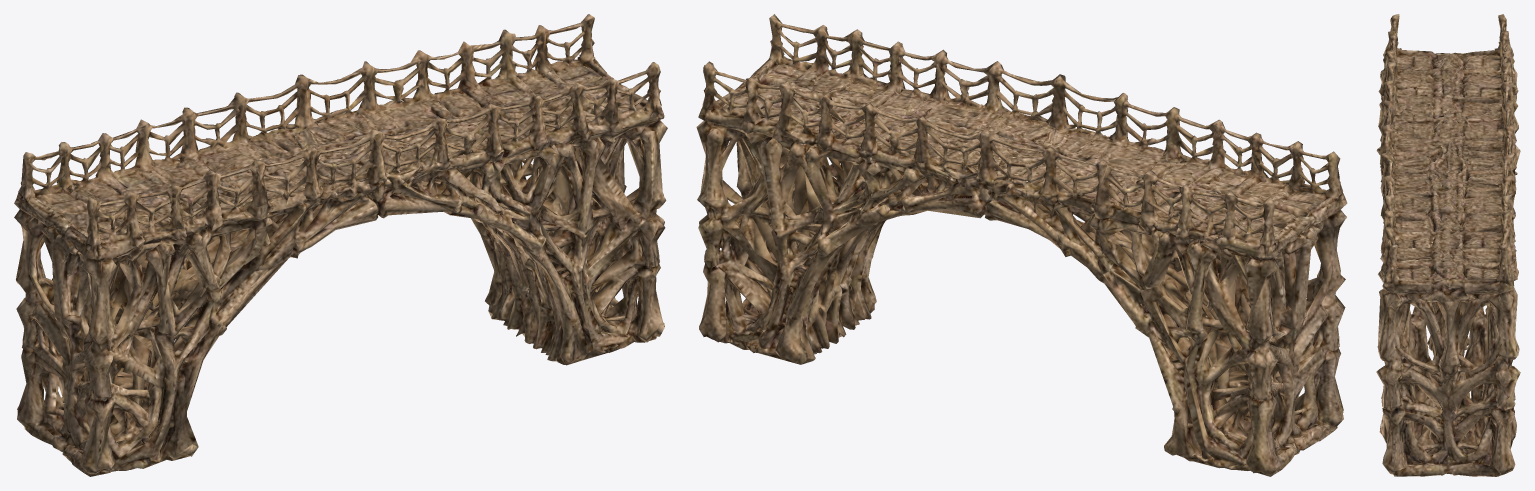
The model's file is bone-bridge.lod1.glb.
The picture shows the model from 3 angles, left to right: view 1: azimuth 30°, elevation 25°; view 2: azimuth 150°, elevation 25°; view 3: azimuth 270°, elevation 25°; orthographic projection. The views are drawn at different scales.
Parts seen in each view (by area): view 1: Mesh_0; view 2: Mesh_0; view 3: Mesh_0.
Part boxes in pixels (x1,y1,x2,y2): Mesh_0: (14, 14, 667, 476); Mesh_0: (696, 14, 1347, 476); Mesh_0: (1376, 14, 1520, 476).
Size of the model in its own units: 10.77 by 4.99 by 2.76.
1 material, 1 textured.
